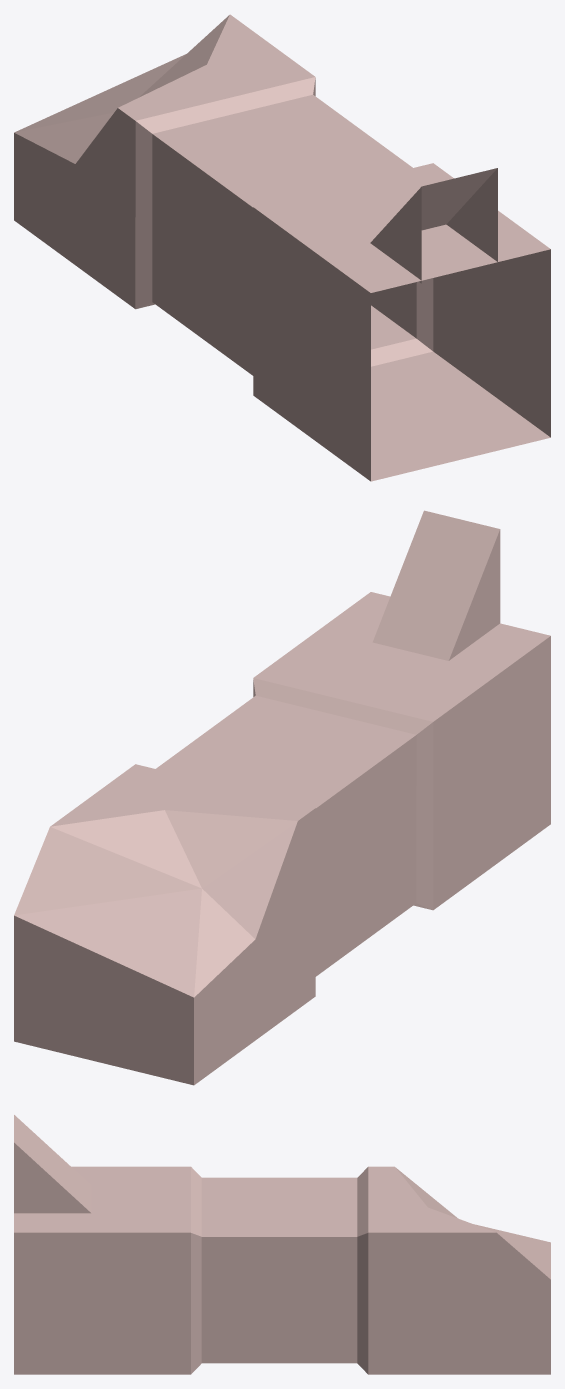
3 views of the same model, one above another, from view 1: azimuth 30°, elevation 25°; view 2: azimuth 150°, elevation 25°; view 3: azimuth 270°, elevation 25° (orthographic). The views are drawn at different scales.
Parts seen in each view (by area): view 1: Object27; view 2: Object27; view 3: Object27.
Boxes of the visible parts, left/top/right/bottom form: Object27: left=14, top=14, right=550, bottom=481; Object27: left=14, top=510, right=550, bottom=1085; Object27: left=14, top=1115, right=550, bottom=1374.
Bounding box in the file's own units: 13699 × 20552 × 47020.
